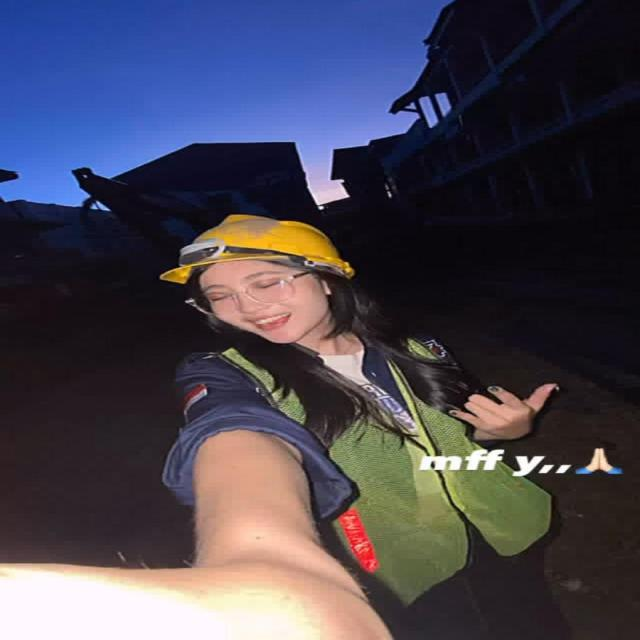safetyhelmet: (157, 207, 364, 321)
